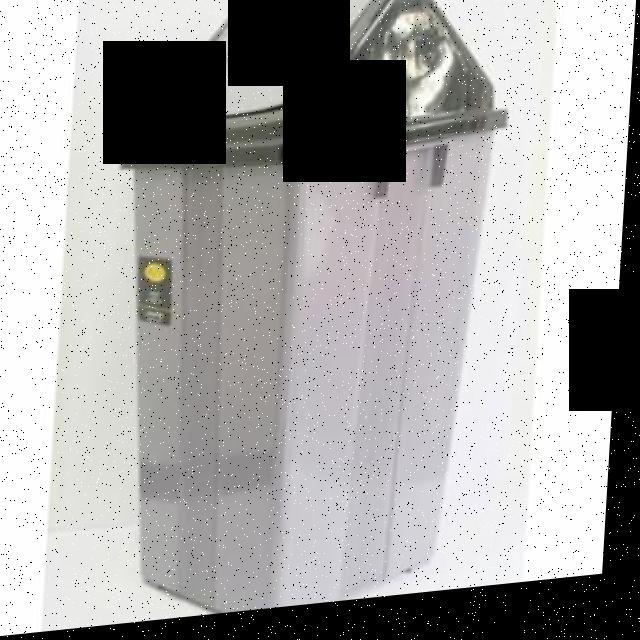bin: (85, 0, 526, 631)
